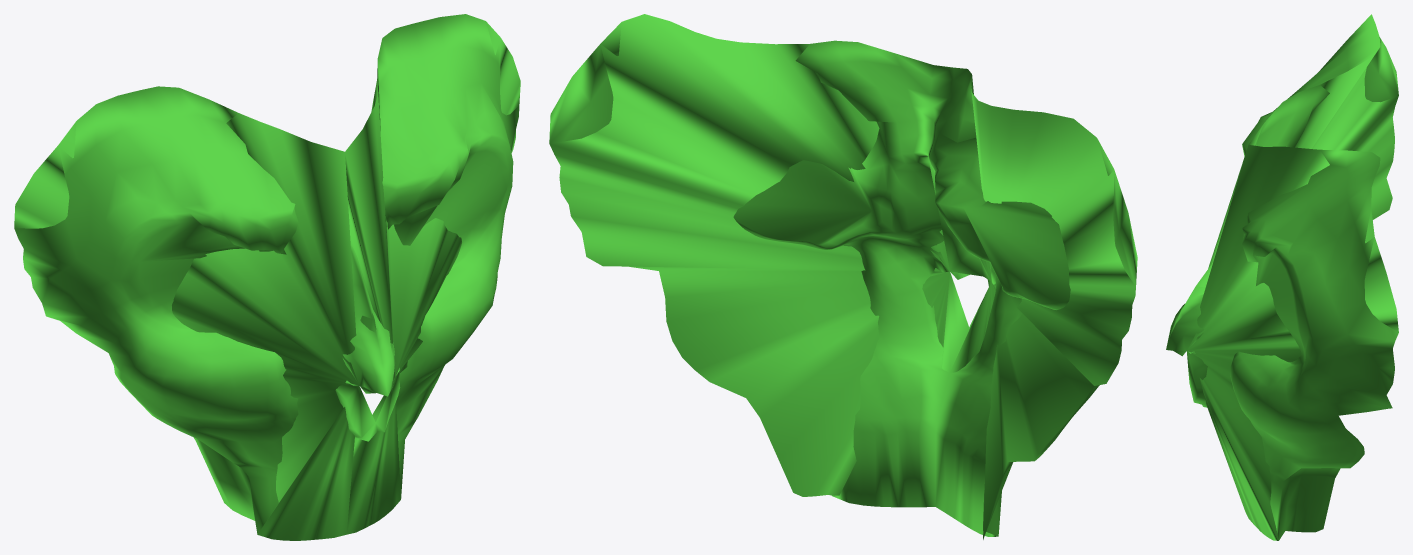
Rendered from scull(mesh).fbx.
3 renders of one model, left to right at view 1: azimuth 30°, elevation 25°; view 2: azimuth 150°, elevation 25°; view 3: azimuth 270°, elevation 25°, orthographic. The views are drawn at different scales.
Parts seen in each view (by area): view 1: Plane; view 2: Plane; view 3: Plane.
Boxes of the visible parts, x1,y1,x2,y2 form: Plane: (14, 14, 520, 540); Plane: (549, 14, 1137, 539); Plane: (1166, 14, 1398, 540).
Bounding box in the file's own units: 538 × 439 × 223.
